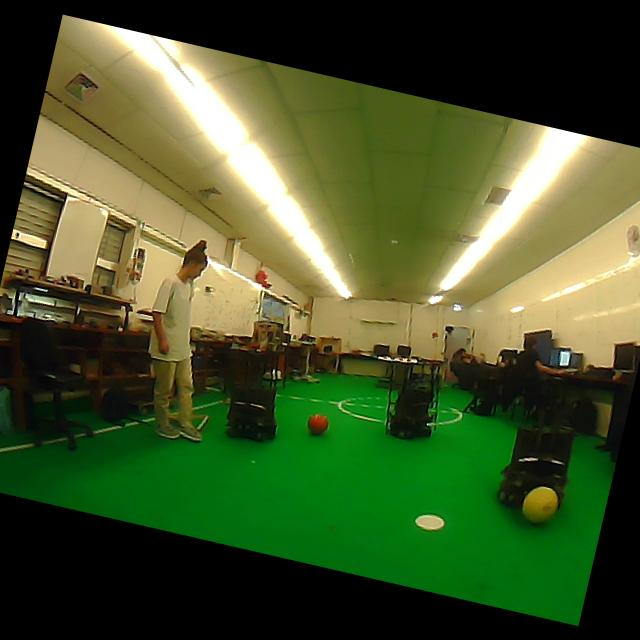ball: (521, 487, 558, 523), (307, 414, 329, 435)
robot: (497, 427, 574, 504), (384, 358, 442, 438), (226, 385, 277, 441)
